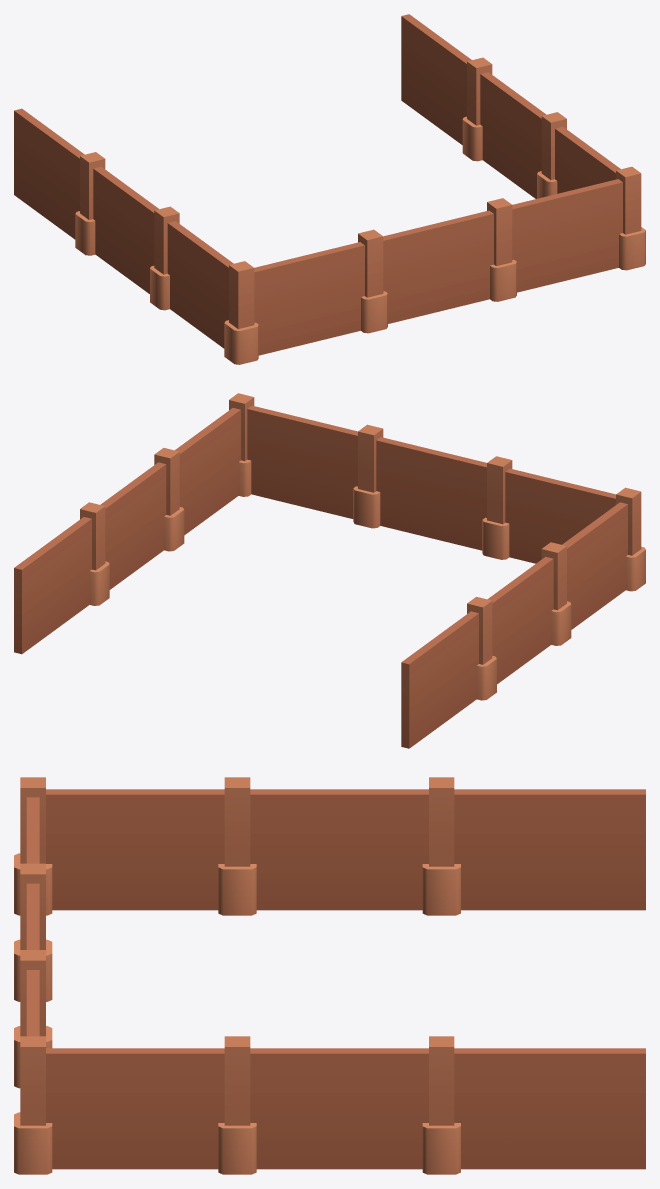
Rendered from fence-3x3.glb.
3 views of the same model, one above another, from view 1: azimuth 30°, elevation 25°; view 2: azimuth 150°, elevation 25°; view 3: azimuth 270°, elevation 25° (orthographic). The views are drawn at different scales.
Visible parts, largest first — view 1: fence-3x3; view 2: fence-3x3; view 3: fence-3x3.
Part boxes in pixels (<box>): fence-3x3: <box>14,14,645,364</box>; fence-3x3: <box>14,393,645,748</box>; fence-3x3: <box>14,777,645,1174</box>.
Bounding box in the file's own units: 1.28 × 0.27 × 1.24.
Materials: 1 (1 with a texture image).
